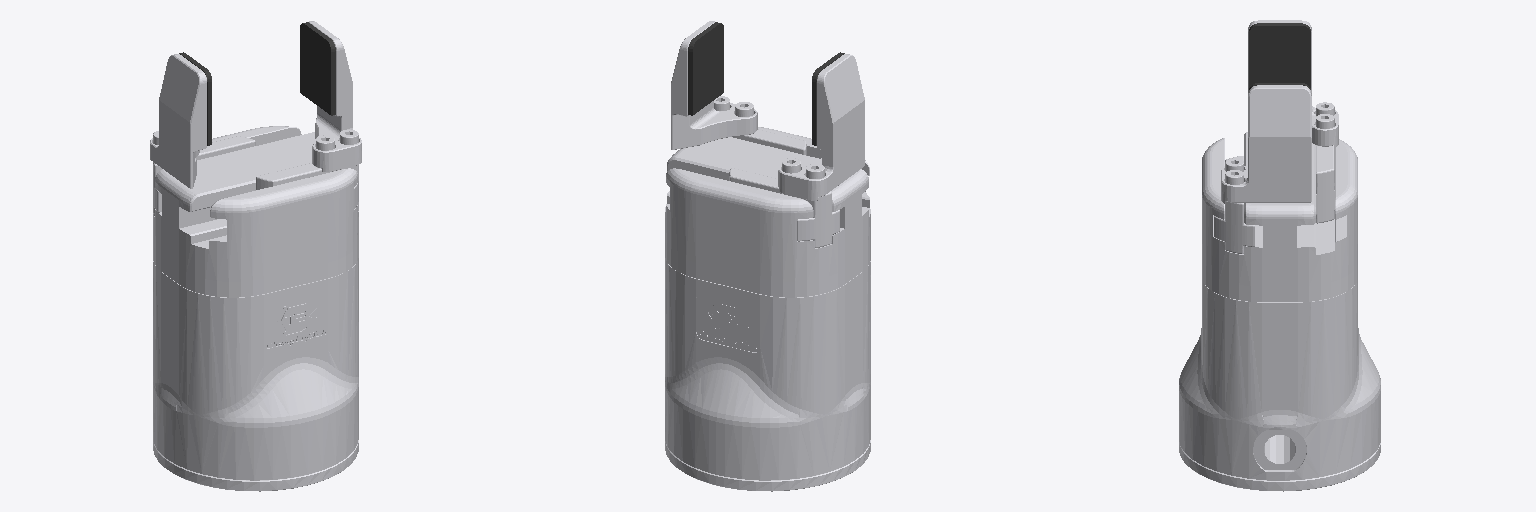
URDF robot description (crt_ctpm2f50h_gripper_visualization):
<?xml version="1.0" encoding="utf-8"?>
<!-- This URDF was automatically created by SolidWorks to URDF Exporter! Originally created by Stephen Brawner (brawner@gmail.com) 
     Commit Version: 1.6.0-4-g7f85cfe  Build Version: 1.6.7995.38578
     For more information, please see http://wiki.ros.org/sw_urdf_exporter -->
<robot
  name="crt_ctpm2f50h_gripper_visualization">
  <link
    name="base_link">
    <inertial>
      <origin
        xyz="-0.000205644649099209 -1.02779454716656E-05 0.0479185719773835"
        rpy="0 0 0" />
      <mass
        value="1.13758449010389" />
      <inertia
        ixx="0.000637430929438368"
        ixy="1.27894820114056E-07"
        ixz="-5.6255041852591E-06"
        iyy="0.000730154786314872"
        iyz="2.33656557614586E-07"
        izz="0.000732181377560946" />
    </inertial>
    <visual>
      <origin
        xyz="0 0 0"
        rpy="0 0 0" />
      <geometry>
        <mesh
          filename="package://crt_ctpm2f50h_gripper_visualization/meshes/base_link.STL" />
      </geometry>
      <material
        name="">
        <color
          rgba="0.890196078431372 0.890196078431372 0.913725490196078 1" />
      </material>
    </visual>
    <collision>
      <origin
        xyz="0 0 0"
        rpy="0 0 0" />
      <geometry>
        <mesh
          filename="package://crt_ctpm2f50h_gripper_visualization/meshes/base_link.STL" />
      </geometry>
    </collision>
  </link>
  <link
    name="Left_Link">
    <inertial>
      <origin
        xyz="-0.00966138172777936 -0.0228246772939132 0.0102156451251757"
        rpy="0 0 0" />
      <mass
        value="0.0447412817374153" />
      <inertia
        ixx="5.76340255937816E-06"
        ixy="-1.34634780522411E-07"
        ixz="2.51890630907923E-07"
        iyy="5.05355165438814E-06"
        iyz="8.45206289535499E-07"
        izz="7.39792611382058E-06" />
    </inertial>
    <visual>
      <origin
        xyz="0 0 0"
        rpy="0 0 0" />
      <geometry>
        <mesh
          filename="package://crt_ctpm2f50h_gripper_visualization/meshes/Left_Link.STL" />
      </geometry>
      <material
        name="">
        <color
          rgba="0.890196078431372 0.890196078431372 0.913725490196078 1" />
      </material>
    </visual>
    <collision>
      <origin
        xyz="0 0 0"
        rpy="0 0 0" />
      <geometry>
        <mesh
          filename="package://crt_ctpm2f50h_gripper_visualization/meshes/Left_Link.STL" />
      </geometry>
    </collision>
  </link>
  <joint
    name="Left_Joint"
    type="prismatic">
    <origin
      xyz="0.030444 0 0.13741"
      rpy="1.5708 0 0" />
    <parent
      link="base_link" />
    <child
      link="Left_Link" />
    <axis
      xyz="-1 0 0" />
    <limit
      lower="0"
      upper="0.025"
      effort="2"
      velocity="1000" />
  </joint>
  <link
    name="Left_Pad_Link">
    <inertial>
      <origin
        xyz="-3.46944695195361E-18 0.00164100460022655 -3.36293138167172E-16"
        rpy="0 0 0" />
      <mass
        value="0.00164972344172307" />
      <inertia
        ixx="1.85836483027E-07"
        ixy="-6.48704682399354E-25"
        ixz="-5.11441246026462E-22"
        iyy="7.23415984682111E-08"
        iyz="1.84639116636565E-23"
        izz="1.14594700186604E-07" />
    </inertial>
    <visual>
      <origin
        xyz="0 0 0"
        rpy="0 0 0" />
      <geometry>
        <mesh
          filename="package://crt_ctpm2f50h_gripper_visualization/meshes/Left_Pad_Link.STL" />
      </geometry>
      <material
        name="">
        <color
          rgba="0.298039215686275 0.298039215686275 0.298039215686275 1" />
      </material>
    </visual>
    <collision>
      <origin
        xyz="0 0 0"
        rpy="0 0 0" />
      <geometry>
        <mesh
          filename="package://crt_ctpm2f50h_gripper_visualization/meshes/Left_Pad_Link.STL" />
      </geometry>
    </collision>
  </link>
  <joint
    name="Left_Pad_Joint"
    type="fixed">
    <origin
      xyz="-0.0044445 0.0035361 0"
      rpy="0 0 0" />
    <parent
      link="Left_Link" />
    <child
      link="Left_Pad_Link" />
    <axis
      xyz="0 0 0" />
  </joint>
  <link
    name="Right_Link">
    <inertial>
      <origin
        xyz="-0.00966138172777944 -0.0228246772939132 0.0102156451251758"
        rpy="0 0 0" />
      <mass
        value="0.0447412817374153" />
      <inertia
        ixx="5.76340255937816E-06"
        ixy="-1.34634780522417E-07"
        ixz="2.51890630907912E-07"
        iyy="5.05355165438814E-06"
        iyz="8.45206289535497E-07"
        izz="7.39792611382059E-06" />
    </inertial>
    <visual>
      <origin
        xyz="0 0 0"
        rpy="0 0 0" />
      <geometry>
        <mesh
          filename="package://crt_ctpm2f50h_gripper_visualization/meshes/Right_Link.STL" />
      </geometry>
      <material
        name="">
        <color
          rgba="0.890196078431372 0.890196078431372 0.913725490196078 1" />
      </material>
    </visual>
    <collision>
      <origin
        xyz="0 0 0"
        rpy="0 0 0" />
      <geometry>
        <mesh
          filename="package://crt_ctpm2f50h_gripper_visualization/meshes/Right_Link.STL" />
      </geometry>
    </collision>
  </link>
  <joint
    name="Right_Joint"
    type="prismatic">
    <origin
      xyz="-0.030444 0 0.13741"
      rpy="1.5708 0 3.1416" />
    <parent
      link="base_link" />
    <child
      link="Right_Link" />
    <axis
      xyz="1 0 0" />
    <limit
      lower="0"
      upper="0.03"
      effort="2"
      velocity="1000" />
    <mimic
      joint="Left_Joint"
      multiplier="-1"
      offset="0" />
  </joint>
  <link
    name="Right_Pad_Link">
    <inertial>
      <origin
        xyz="-3.46944695195361E-18 0.00164100460022655 -1.52506542648385E-16"
        rpy="0 0 0" />
      <mass
        value="0.00164972344172307" />
      <inertia
        ixx="1.85836483027E-07"
        ixy="2.05791801616443E-24"
        ixz="-1.59095381499404E-23"
        iyy="7.23415984682111E-08"
        iyz="1.97284138738626E-23"
        izz="1.14594700186604E-07" />
    </inertial>
    <visual>
      <origin
        xyz="0 0 0"
        rpy="0 0 0" />
      <geometry>
        <mesh
          filename="package://crt_ctpm2f50h_gripper_visualization/meshes/Right_Pad_Link.STL" />
      </geometry>
      <material
        name="">
        <color
          rgba="0.298039215686275 0.298039215686275 0.298039215686275 1" />
      </material>
    </visual>
    <collision>
      <origin
        xyz="0 0 0"
        rpy="0 0 0" />
      <geometry>
        <mesh
          filename="package://crt_ctpm2f50h_gripper_visualization/meshes/Right_Pad_Link.STL" />
      </geometry>
    </collision>
  </link>
  <joint
    name="Right_Pad_Joint"
    type="fixed">
    <origin
      xyz="-0.0044444817368788 0.00353610269321061 0"
      rpy="0 0 0" />
    <parent
      link="Right_Link" />
    <child
      link="Right_Pad_Link" />
    <axis
      xyz="0 0 0" />
  </joint>
</robot>

--- Render facts (derived) ---
Views: 3 orthographic renders of the robot side by side, from view 1: azimuth 30°, elevation 25°; view 2: azimuth 150°, elevation 25°; view 3: azimuth 270°, elevation 25°.
Model crt_ctpm2f50h_gripper_visualization with 5 links and 4 joints (2 prismatic, 2 fixed), rooted at base_link, posed all joints at 0.
Visible links, largest first — view 1: base_link, Right_Link, Left_Link, Left_Pad_Link; view 2: base_link, Right_Link, Left_Link, Left_Pad_Link; view 3: base_link, Left_Link, Right_Pad_Link, Right_Link.
Link boxes in pixels (x1=…): base_link: x1=153, y1=126, x2=358, y2=491; Right_Link: x1=150, y1=54, x2=255, y2=215; Left_Link: x1=256, y1=21, x2=361, y2=210; Left_Pad_Link: x1=300, y1=22, x2=335, y2=115; base_link: x1=665, y1=127, x2=870, y2=491; Right_Link: x1=729, y1=54, x2=864, y2=247; Left_Link: x1=671, y1=21, x2=806, y2=155; Left_Pad_Link: x1=688, y1=22, x2=723, y2=115; base_link: x1=1179, y1=132, x2=1380, y2=491; Left_Link: x1=1214, y1=85, x2=1311, y2=253; Right_Pad_Link: x1=1249, y1=23, x2=1310, y2=87; Right_Link: x1=1248, y1=20, x2=1338, y2=223.
Bounding box of the posed robot: 0.075 × 0.075 × 0.1612 m (x, y, z).
5 mesh visuals loaded from 5 distinct referenced files (5 binary STL).
